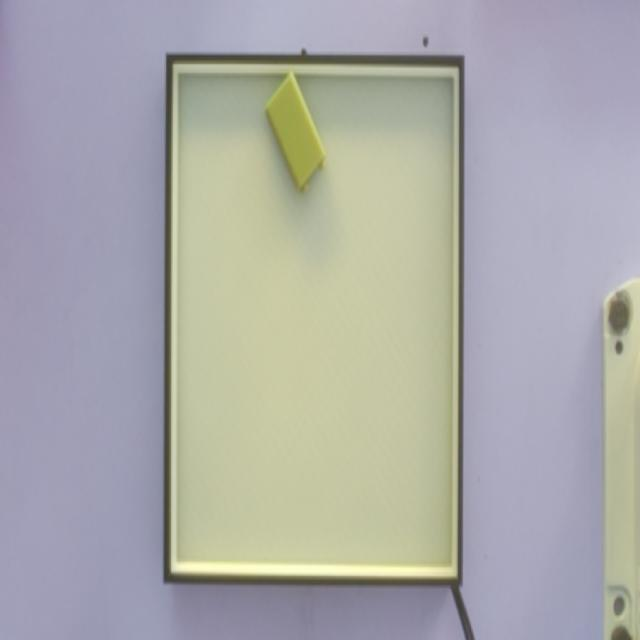bateria: (263, 72, 328, 194)
mesa: (163, 54, 464, 585)
